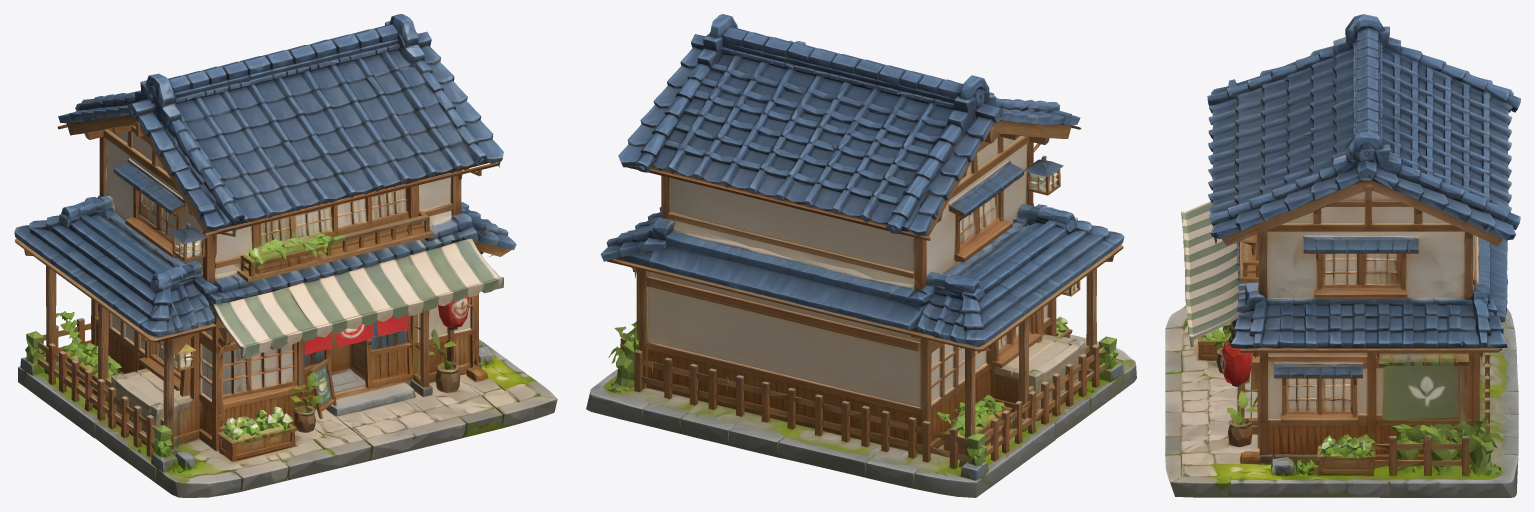
The model's file is source.glb.
3 renders of one model, left to right at view 1: azimuth 30°, elevation 25°; view 2: azimuth 150°, elevation 25°; view 3: azimuth 270°, elevation 25°, orthographic. The views are drawn at different scales.
Visible parts, largest first — view 1: model; view 2: model; view 3: model.
Boxes of the visible parts, x1,y1,x2,y2 form: model: (14, 14, 557, 497); model: (586, 14, 1136, 497); model: (1165, 14, 1520, 497).
Size of the model in its own units: 1.89 by 1.61 by 1.54.
1 material, 1 textured.
